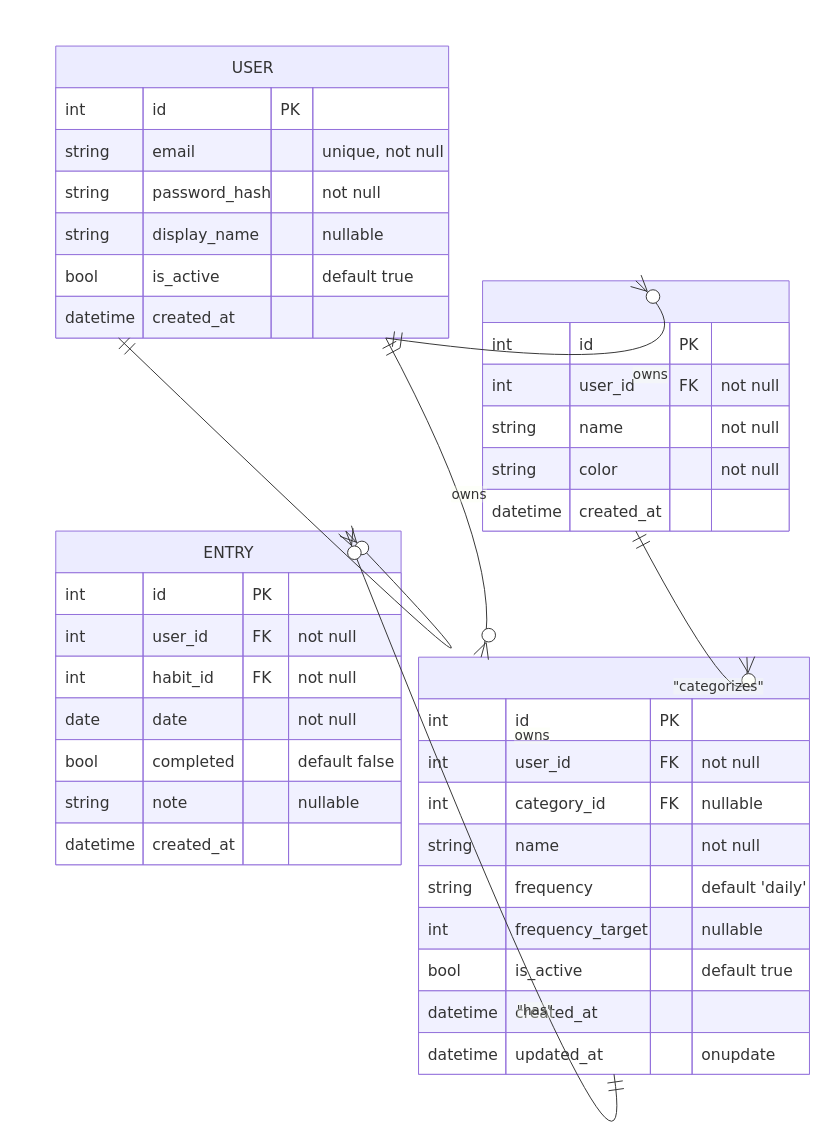
Some shapes in this 826 by 1138 pixel diagram are drawn without their labels. Here are the shapes that lost their labels. From the top down, the box of each, then its label:
(482, 280, 789, 531): CATEGORY
(418, 656, 809, 1074): HABIT
